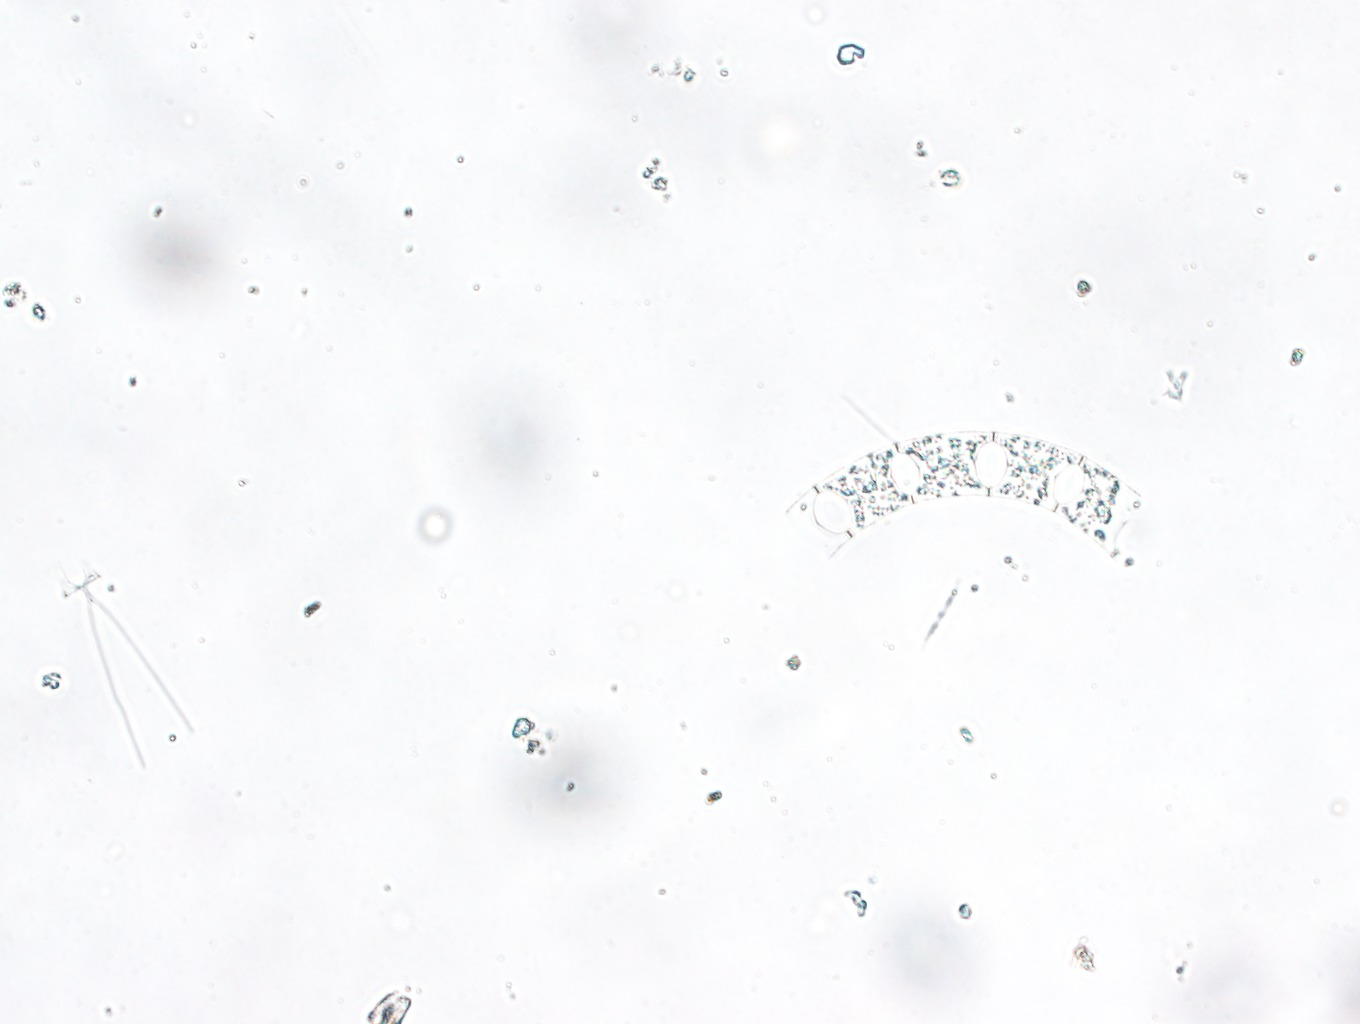eucampia: (783, 429, 1145, 559)
